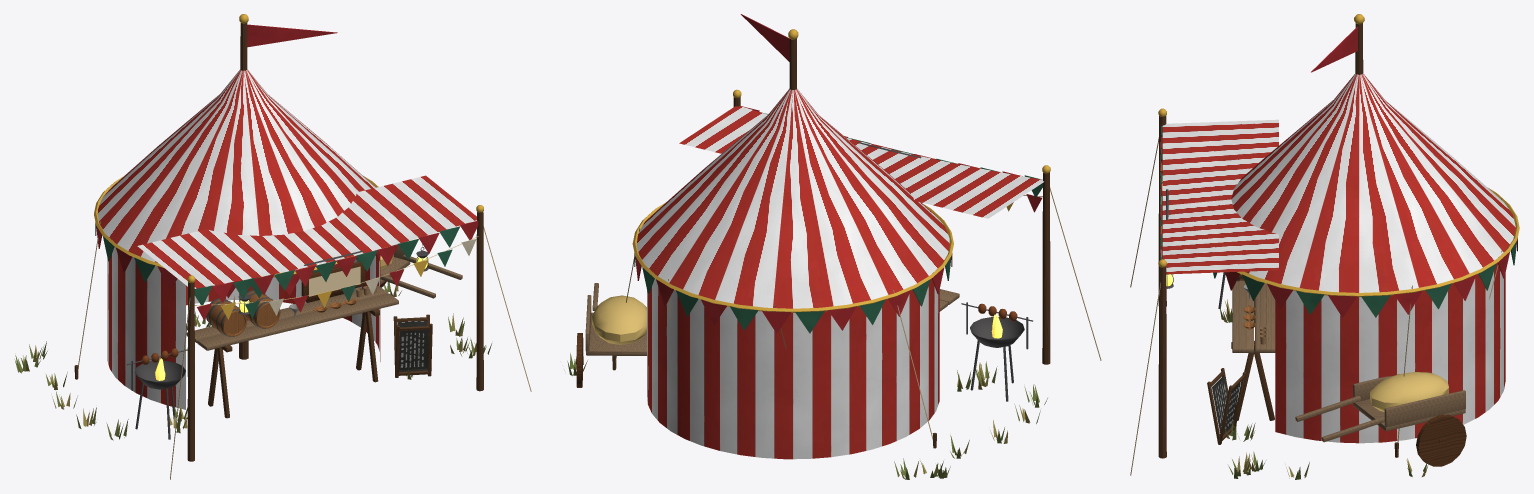
Rendered from tavern-tent.glb.
The picture shows the model from 3 angles, left to right: view 1: azimuth 30°, elevation 25°; view 2: azimuth 150°, elevation 25°; view 3: azimuth 270°, elevation 25°; orthographic projection. The views are drawn at different scales.
Parts seen in each view (by area): view 1: tavern_tent, sign_face; view 2: tavern_tent; view 3: tavern_tent.
Part boxes in pixels (x1,y1,x2,y2): tavern_tent: (14, 14, 531, 479); sign_face: (309, 266, 360, 296); tavern_tent: (564, 14, 1101, 479); tavern_tent: (1130, 14, 1519, 479).
Size of the model in its own units: 8.76 by 7.15 by 6.87.
Materials: 22 (10 with a texture image).
